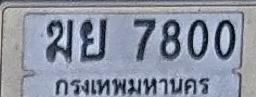0: (214, 18, 235, 60), (187, 18, 208, 60)
7: (134, 18, 156, 60)
8: (160, 18, 180, 60)
A06: (46, 19, 74, 62)
A34: (80, 18, 108, 61)
BKK: (49, 74, 212, 97)
